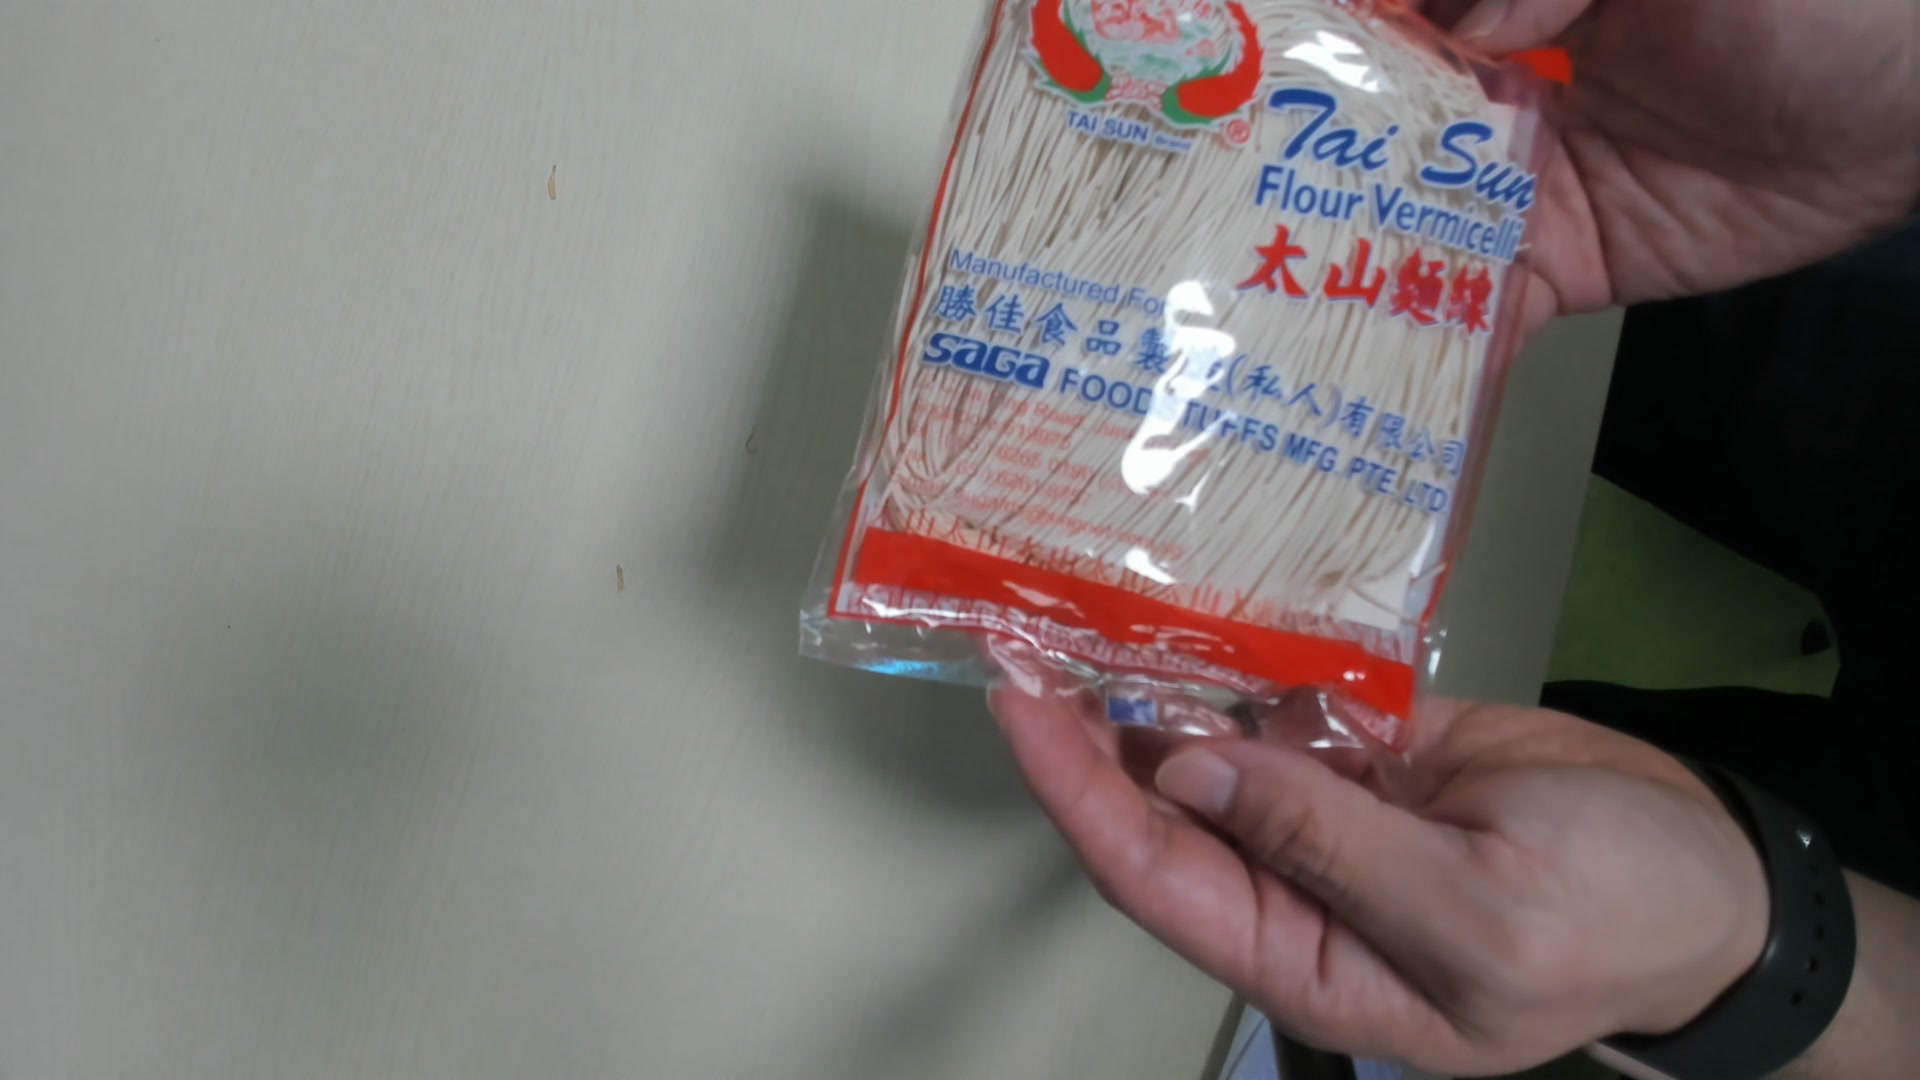BeeHoonVermicelli_100-199g_Halal_NonHealthy: (793, 1, 1578, 731)
